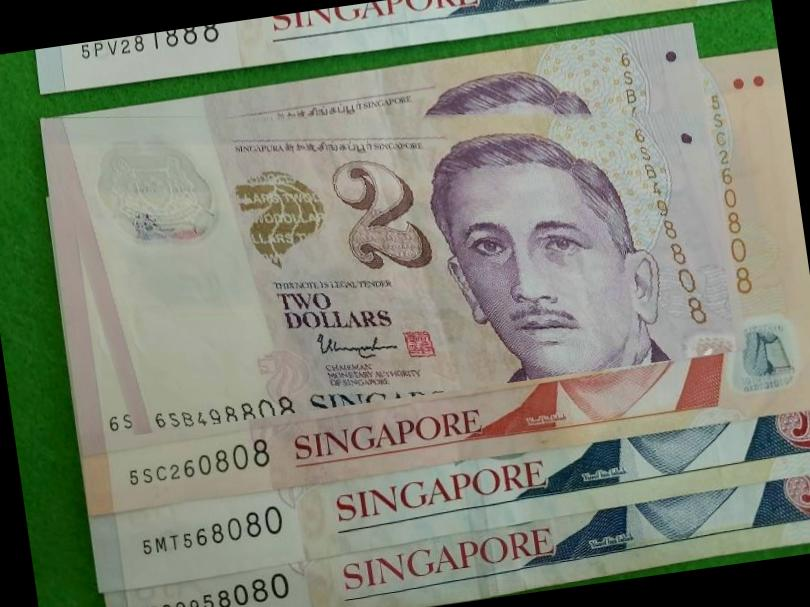2SingaporeDollar: (41, 26, 737, 443)
